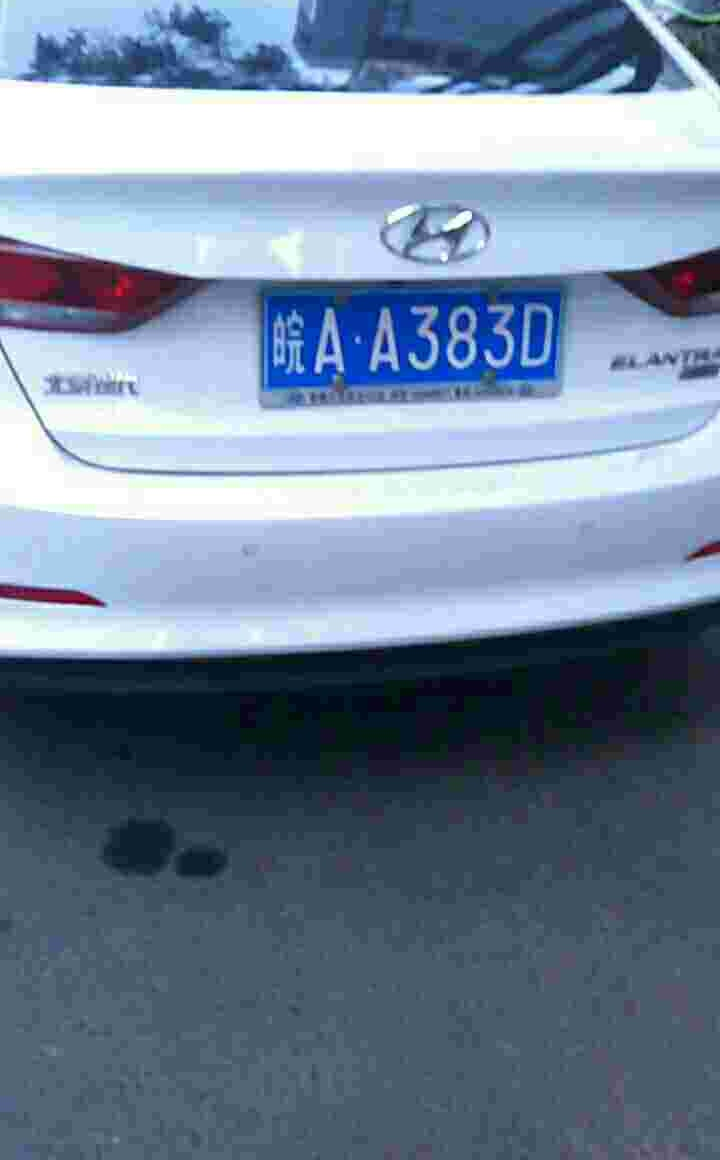license_plate: (267, 278, 563, 400)
